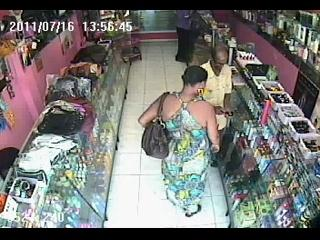Normal: (138, 65, 220, 218), (200, 44, 234, 146), (141, 92, 170, 160), (174, 11, 195, 66), (121, 46, 142, 66)
